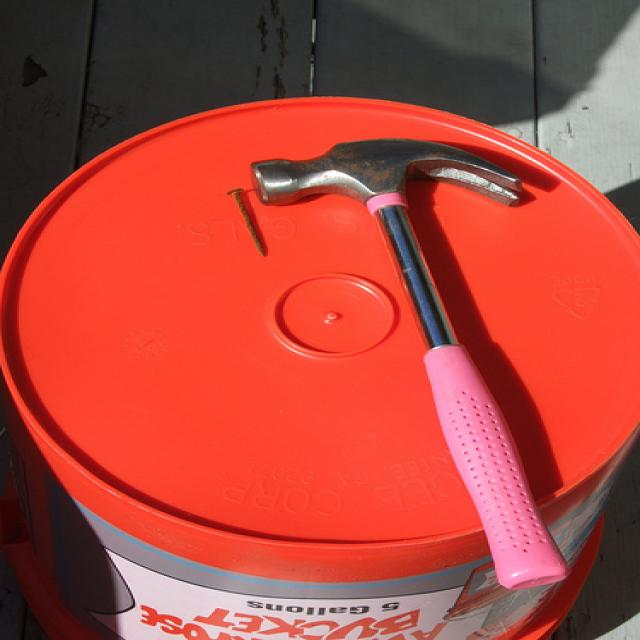hammer: (242, 126, 614, 513)
